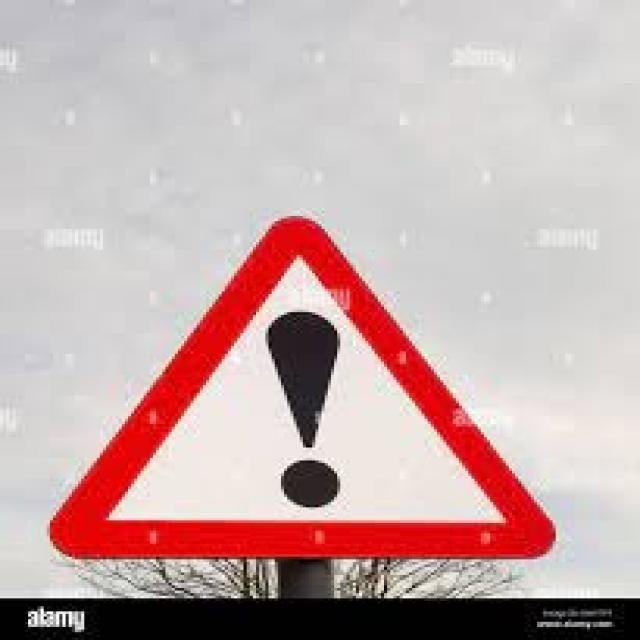warning: (41, 207, 560, 563)
